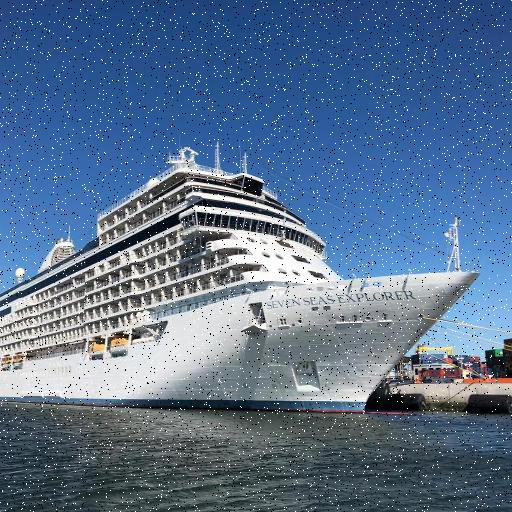cruises: (1, 135, 486, 423)
